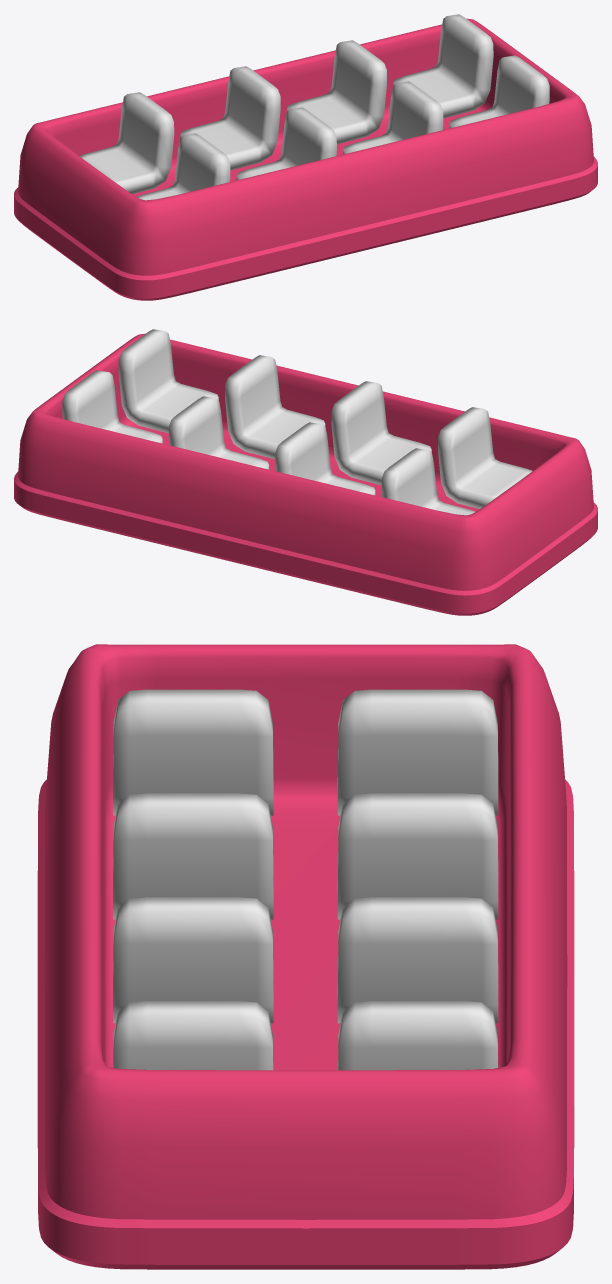
File: car_l_2_T2.fbx
The picture shows the model from 3 angles, top to bottom: view 1: azimuth 30°, elevation 25°; view 2: azimuth 150°, elevation 25°; view 3: azimuth 270°, elevation 25°; orthographic projection. The views are drawn at different scales.
Visible parts, largest first — view 1: Cube.110, Cube.111; view 2: Cube.110, Cube.111; view 3: Cube.110, Cube.111.
Boxes of the visible parts, x1,y1,x2,y2 form: Cube.110: (14,18,597,300); Cube.111: (79,14,549,200); Cube.110: (14,333,597,615); Cube.111: (62,329,532,515); Cube.110: (37,644,574,1269); Cube.111: (113,689,498,1070).
Bounding box in the file's own units: 380 × 83.45 × 184.
